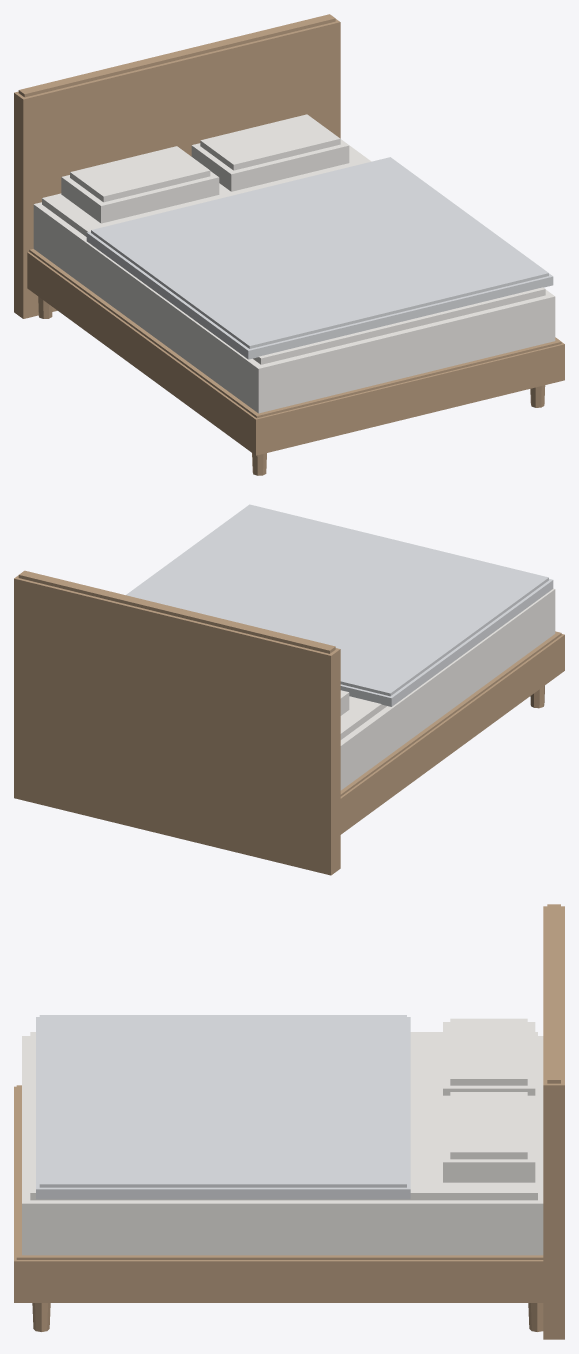
Rendered from bed_queen.glb.
3 renders of one model, top to bottom at view 1: azimuth 30°, elevation 25°; view 2: azimuth 150°, elevation 25°; view 3: azimuth 270°, elevation 25°, orthographic. The views are drawn at different scales.
Parts seen in each view (by area): view 1: asset_bed_queen_Body, asset_bed_queen_Trim, asset_bed_queen_Soft; view 2: asset_bed_queen_Body, asset_bed_queen_Trim, asset_bed_queen_Soft; view 3: asset_bed_queen_Trim, asset_bed_queen_Soft, asset_bed_queen_Body.
Boxes of the visible parts, left/top/right/bottom form: asset_bed_queen_Body: left=14, top=14, right=564, bottom=475; asset_bed_queen_Trim: left=86, top=157, right=553, bottom=359; asset_bed_queen_Soft: left=33, top=114, right=555, bottom=413; asset_bed_queen_Body: left=14, top=570, right=564, bottom=875; asset_bed_queen_Trim: left=126, top=504, right=553, bottom=706; asset_bed_queen_Soft: left=340, top=588, right=555, bottom=790; asset_bed_queen_Trim: left=36, top=1015, right=410, bottom=1199; asset_bed_queen_Soft: left=22, top=1018, right=543, bottom=1255; asset_bed_queen_Body: left=14, top=904, right=564, bottom=1339.
Size of the model in its own units: 1.56 by 1.05 by 2.03.
